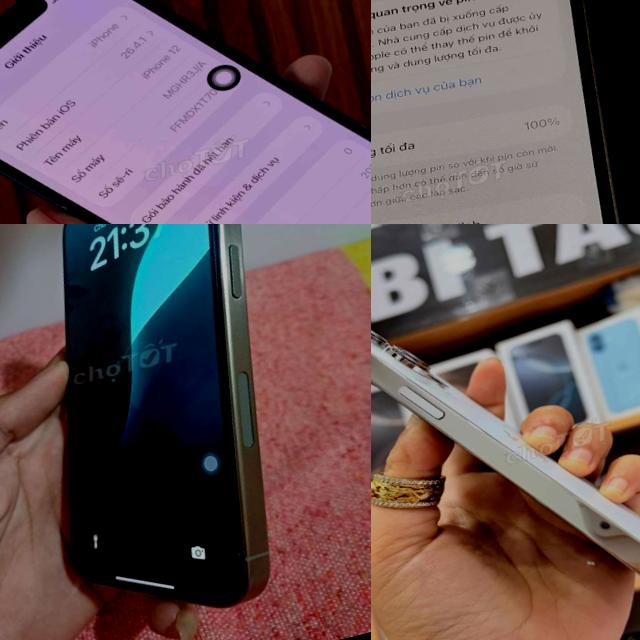gen_12_13: (0, 0, 371, 224), (371, 0, 640, 224)
gen_14: (371, 244, 640, 640)
gen_15: (0, 224, 335, 640)
